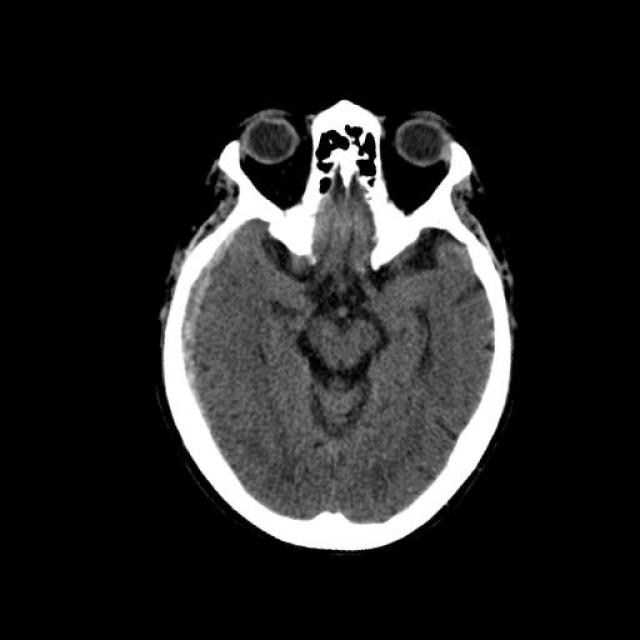Subdural: (113, 200, 271, 485)
